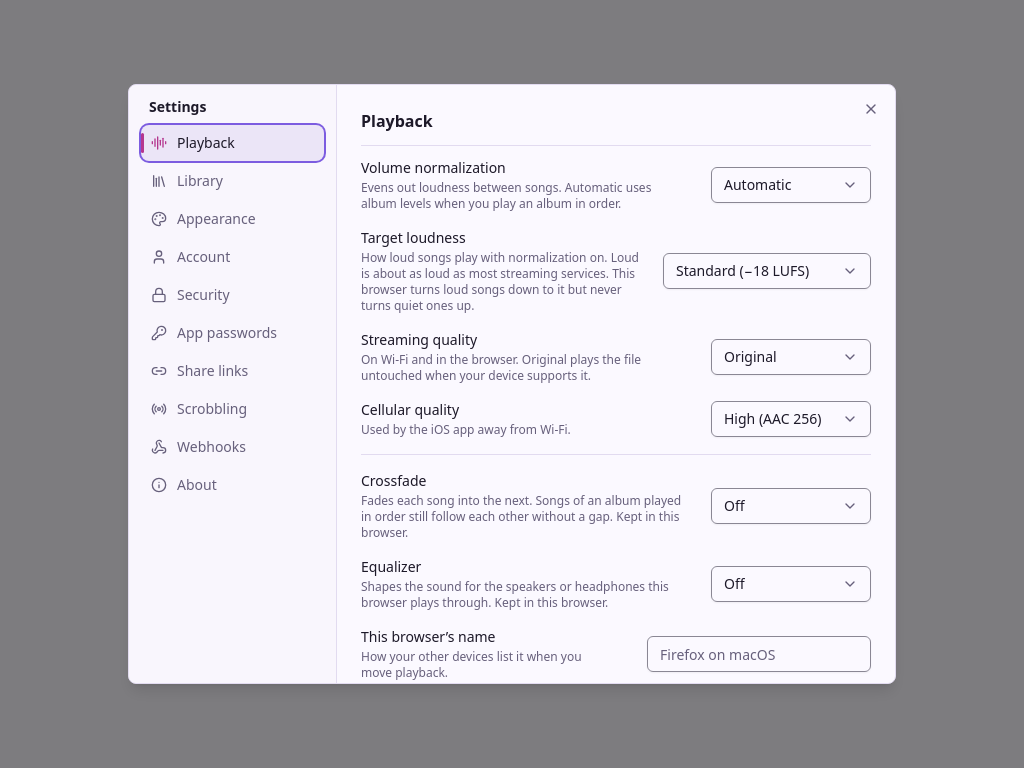
SettingsDialog › switches to Security
The width and height of the screenshot is (1024, 768).
Click the button "Security": (232, 295) [141,277,324,313]
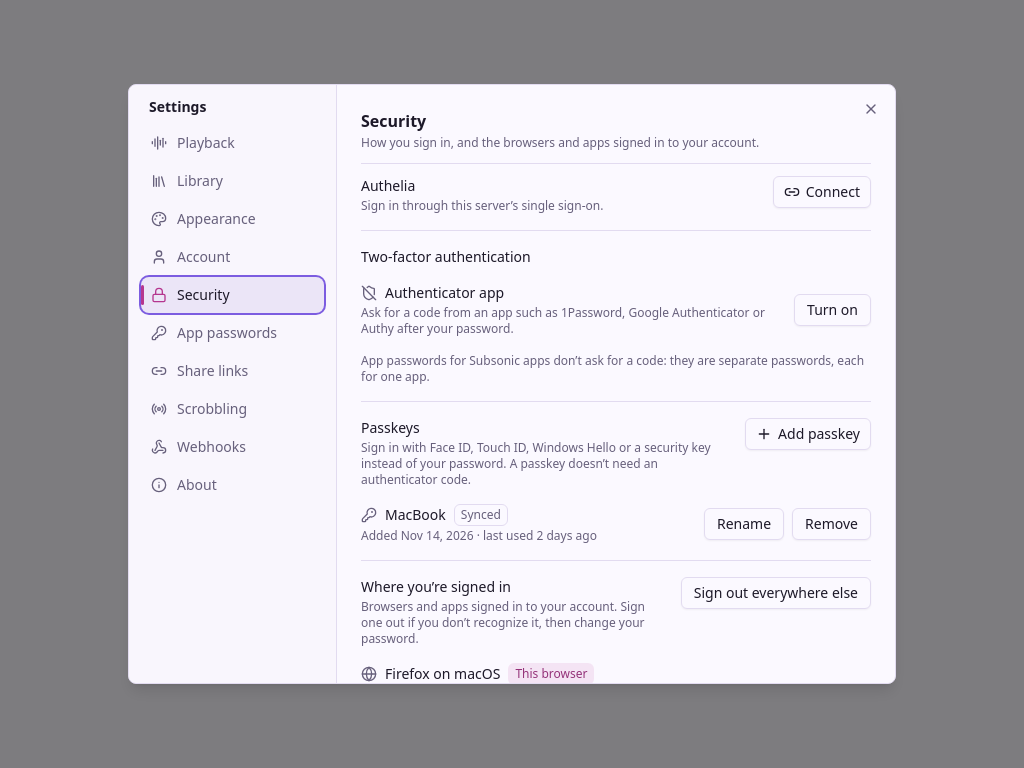
Expected: the button "Security" is marked as current, [141,277,324,313]
